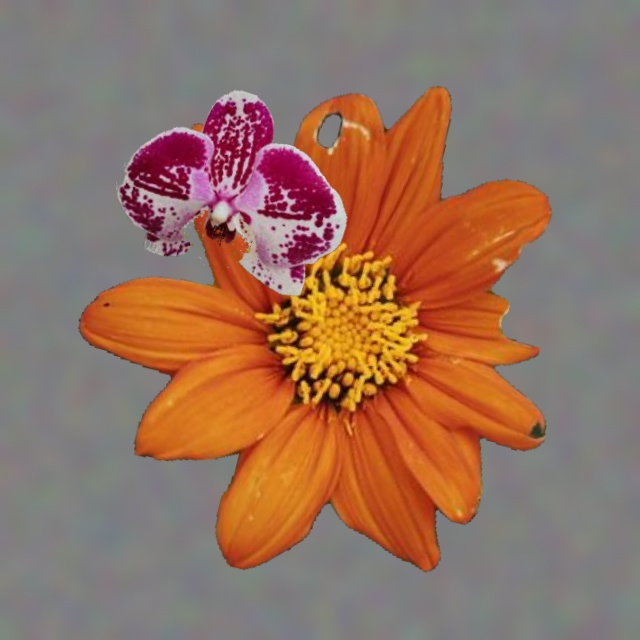dahlia: (79, 86, 551, 571)
orchid: (116, 90, 346, 295)
rose: (205, 151, 380, 304)
